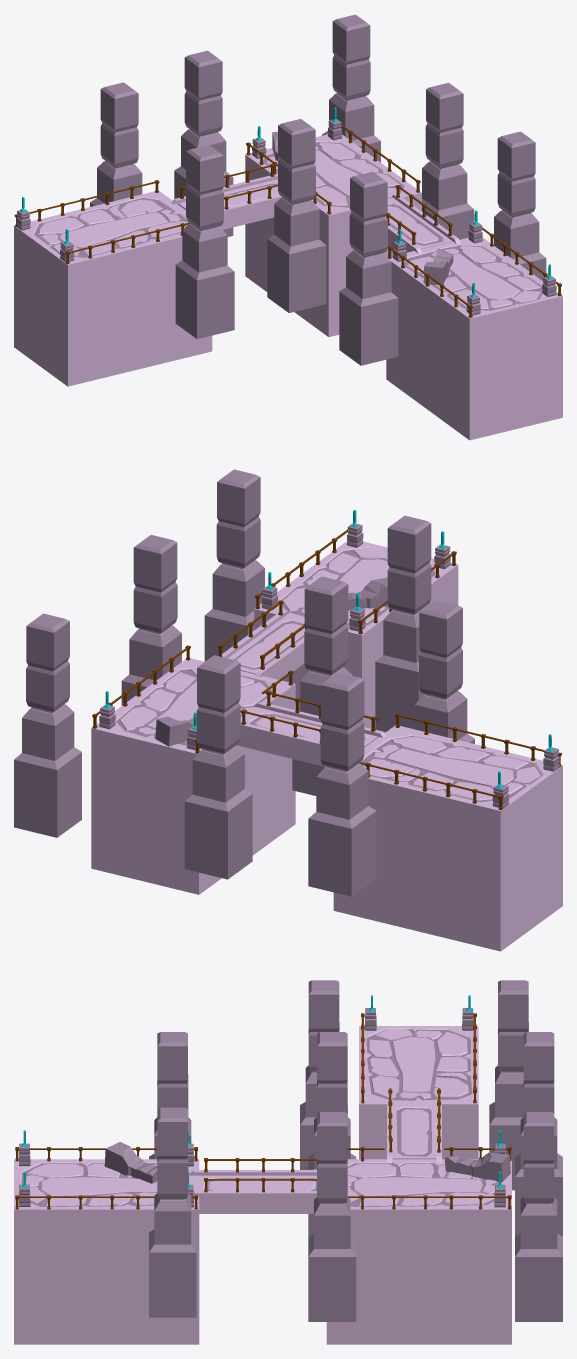
The model's file is cenario.fbx.
The picture shows the model from 3 angles, top to bottom: view 1: azimuth 30°, elevation 25°; view 2: azimuth 150°, elevation 25°; view 3: azimuth 270°, elevation 25°; orthographic projection. The views are drawn at different scales.
Visible parts, largest first — view 1: Plano_002, Plano, Plano_001, Cubo_012, Cubo_014, Cubo_009, Cubo_010, Cubo_011, Cubo_081, Cubo_013, Cubo_082, Cubo_015 (+3 smaller); view 2: Plano_002, Plano_001, Cubo_013, Cubo_082, Cubo_081, Cubo_012, Cubo_011, Plano, Cubo_010, Cubo_014, Cubo_009, Cubo_015 (+4 smaller); view 3: Plano_001, Plano, Plano_002, Cubo_081, Cubo_011, Cubo_010, Cubo_013, Cubo_004, Cubo_082, Cubo_014, Cubo_009, Cubo_015 (+4 smaller).
Boxes of the visible parts, <box> form: Plano_002: <box>14,190,212,386</box>; Plano: <box>386,237,562,440</box>; Plano_001: <box>245,134,421,336</box>; Cubo_012: <box>339,171,398,365</box>; Cubo_014: <box>175,145,234,339</box>; Cubo_009: <box>267,119,326,312</box>; Cubo_010: <box>422,82,474,239</box>; Cubo_011: <box>494,131,546,280</box>; Cubo_081: <box>322,14,380,162</box>; Cubo_013: <box>90,82,142,206</box>; Cubo_082: <box>174,50,233,236</box>; Cubo_015: <box>171,173,282,229</box>; Plano_002: <box>333,725,562,951</box>; Plano_001: <box>91,658,295,894</box>; Cubo_013: <box>308,672,376,896</box>; Cubo_082: <box>184,655,252,879</box>; Cubo_081: <box>14,613,81,837</box>; Cubo_012: <box>375,515,431,731</box>; Cubo_011: <box>204,469,264,661</box>; Plano: <box>254,541,458,733</box>; Cubo_010: <box>121,535,181,705</box>; Cubo_014: <box>415,600,474,743</box>; Cubo_009: <box>292,576,352,795</box>; Cubo_015: <box>236,702,385,766</box>; Plano_001: <box>326,1159,511,1344</box>; Plano: <box>14,1159,199,1344</box>; Plano_002: <box>359,1026,478,1159</box>; Cubo_081: <box>515,1112,562,1321</box>; Cubo_011: <box>149,1107,196,1317</box>; Cubo_010: <box>308,1112,356,1321</box>; Cubo_013: <box>489,980,528,1190</box>; Cubo_004: <box>189,1170,316,1213</box>; Cubo_082: <box>515,1032,562,1236</box>; Cubo_014: <box>300,980,347,1169</box>; Cubo_009: <box>308,1032,356,1236</box>; Cubo_015: <box>387,1099,441,1162</box>.
Bounding box in the file's own units: 1793 × 989 × 2004.
